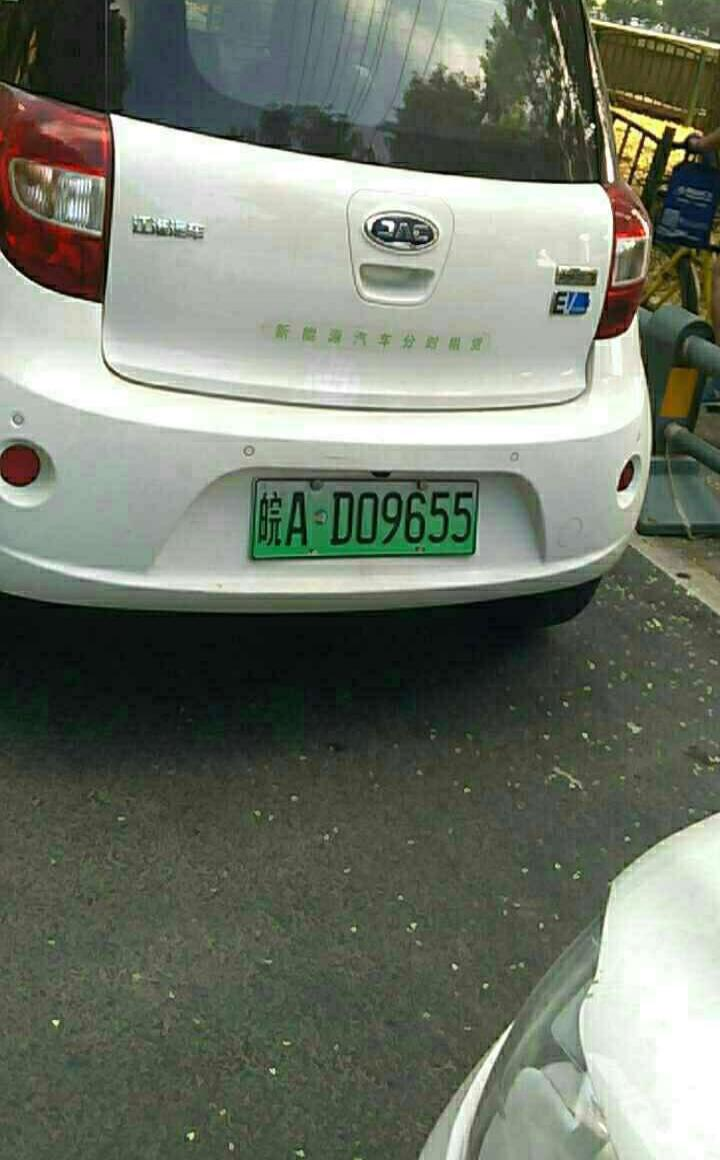car_id: (257, 479, 481, 555)
